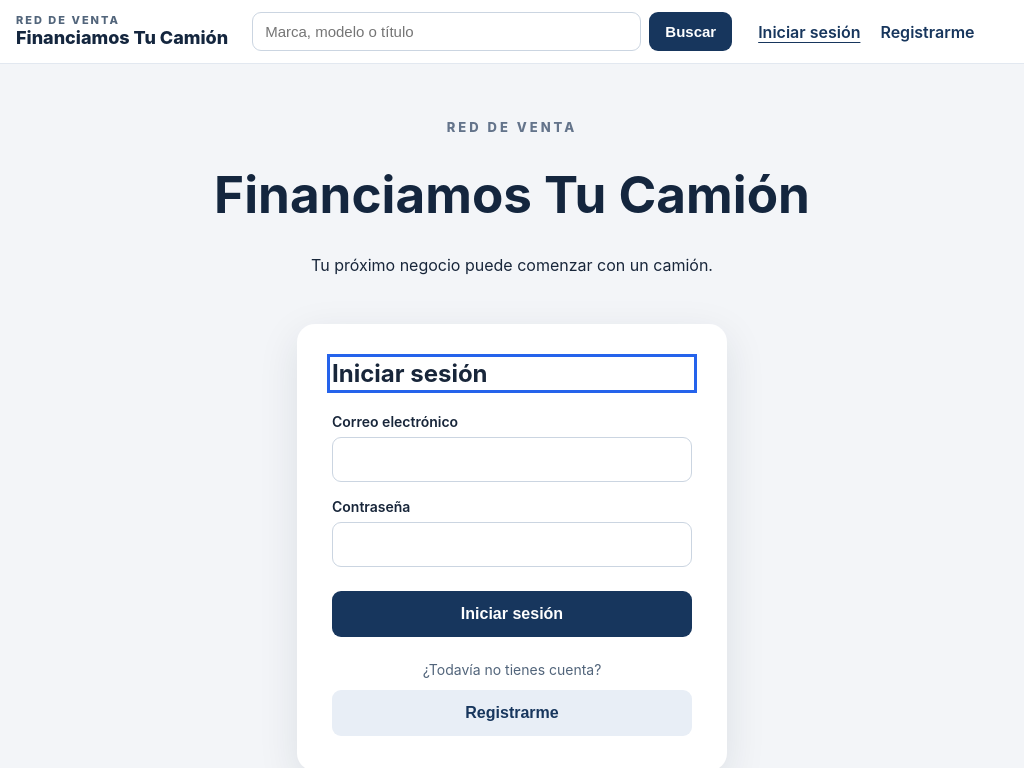
Test: Login › CA-059-19 con campos vacíos no se envía la petición y se marca el campo
Click the button "Iniciar sesión": (512, 614) [332,591,692,637]
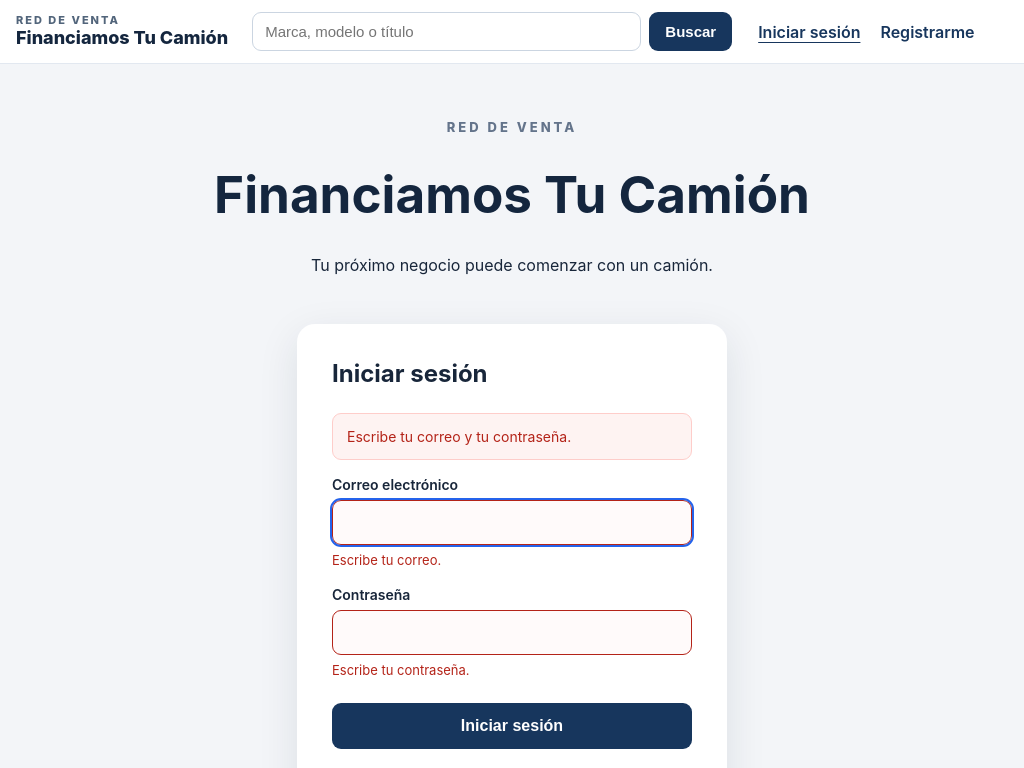
Result: the message reads "Escribe tu correo y tu contraseña." at [347,428,571,445]
